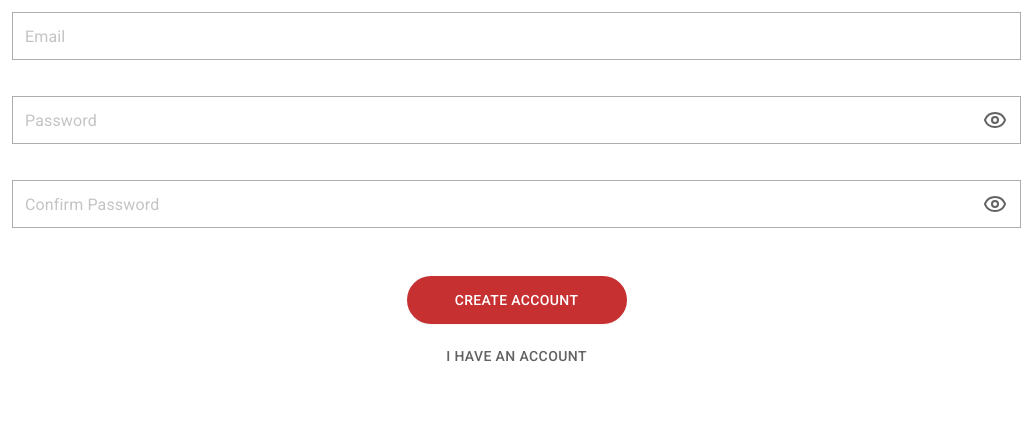
Test: SignupForm Component › should display a backend error when registration fails
In the field with placeholder "Email": {"x": 516, "y": 36} [12, 12, 1021, 60], type "exists@example.com"
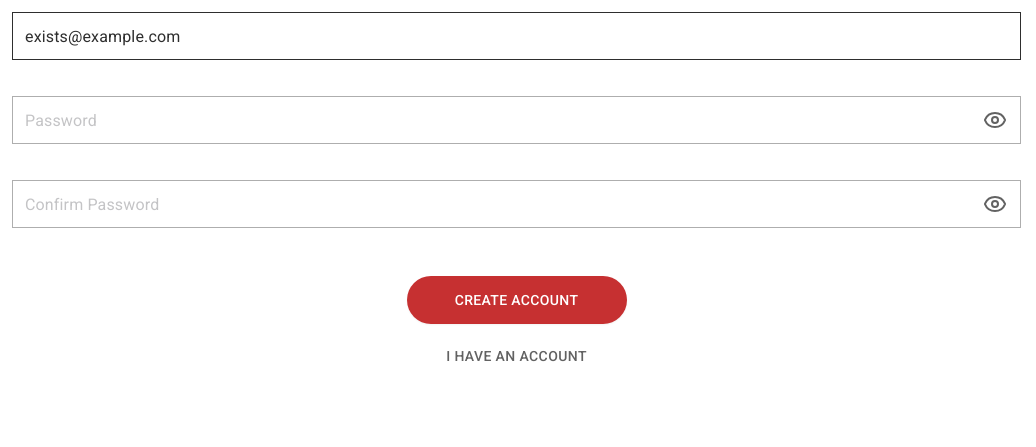
In the password field with placeholder "Password": {"x": 516, "y": 120} [12, 96, 1021, 144], type "password123"
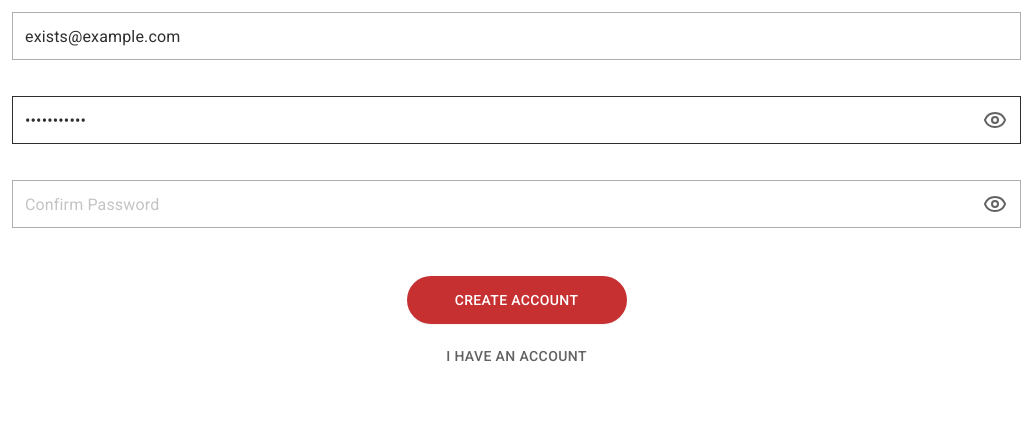
In the password field with placeholder "Confirm Password": {"x": 516, "y": 204} [12, 180, 1021, 228], type "password123"
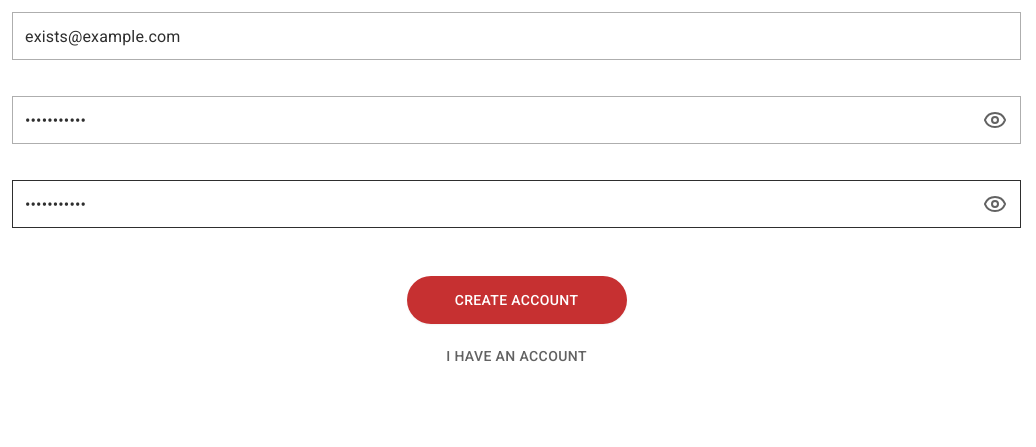
Click the button "CREATE ACCOUNT": {"x": 516, "y": 300} [406, 276, 626, 324]
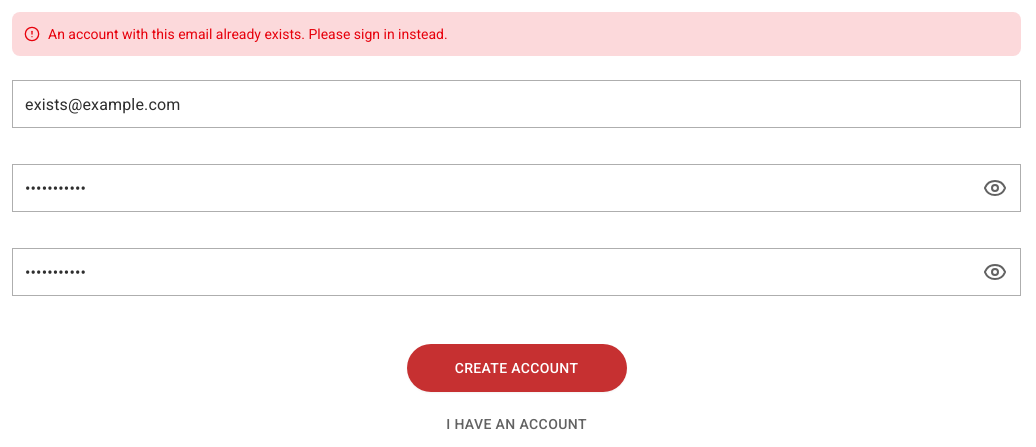
Result: the text "An account with this email already exists" is shown at [48, 26, 448, 42]
